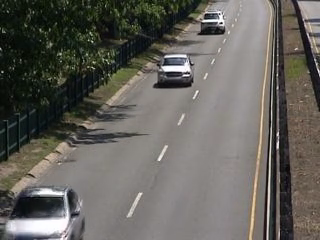car: (3, 183, 89, 240), (152, 52, 198, 91), (198, 8, 228, 37)
